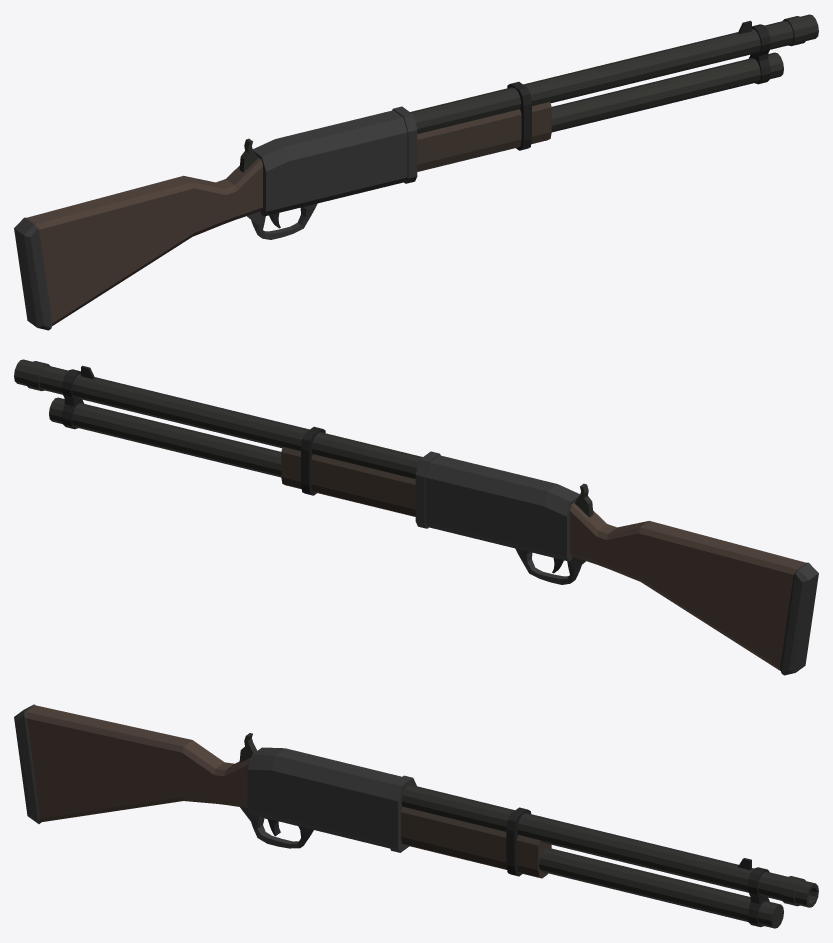
The model's file is shotgun.glb.
The picture shows the model from 3 angles, top to bottom: view 1: azimuth 30°, elevation 25°; view 2: azimuth 150°, elevation 25°; view 3: azimuth 330°, elevation 25°; orthographic projection.
Visible parts, largest first — view 1: Shotgun_2; view 2: Shotgun_2; view 3: Shotgun_2.
Part boxes in pixels (<box>): Shotgun_2: <box>14,14,818,330</box>; Shotgun_2: <box>14,359,818,675</box>; Shotgun_2: <box>14,704,818,928</box>.
Bounding box in the file's own units: 5.78 × 0.9491 × 0.2465.
